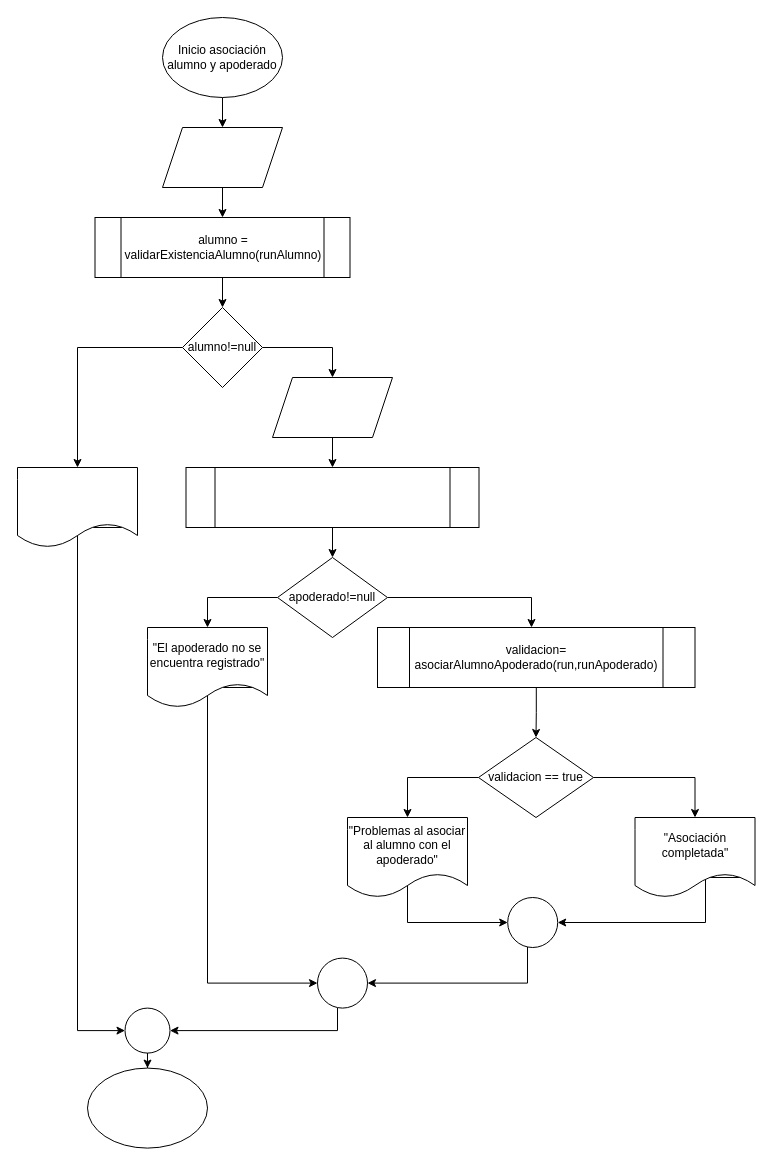
This 781x1166 diagram has some shape labels left out. The shapes that lost their labels are listed below. From the top down, each one's box as (x1, y1, x2, y2) in pixels, then its label:
(162, 126, 282, 188): runAlumno
(272, 376, 392, 438): runApoderado
(16, 466, 138, 548): "El alumno no se encuentra registrado"
(185, 466, 479, 528): apoderado = validarExistenciaApoderado(runApoderado)
(86, 1067, 208, 1148): Fin
